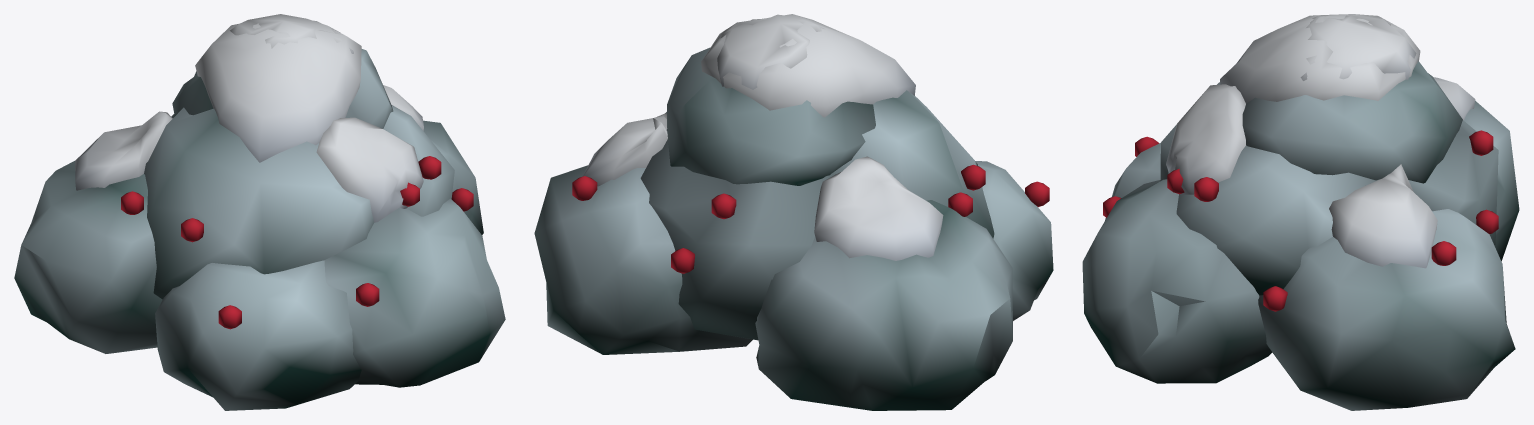
Rendered from frozen_bush.glb.
3 renders of one model, left to right at view 1: azimuth 30°, elevation 25°; view 2: azimuth 150°, elevation 25°; view 3: azimuth 270°, elevation 25°, orthographic. The views are drawn at different scales.
Parts seen in each view (by area): view 1: frozen_bush; view 2: frozen_bush; view 3: frozen_bush.
Boxes of the visible parts, <box> form: frozen_bush: <box>14,14,505,410</box>; frozen_bush: <box>534,14,1053,410</box>; frozen_bush: <box>1082,14,1519,410</box>.
Bounding box in the file's own units: 1.21 × 0.8038 × 1.02.
